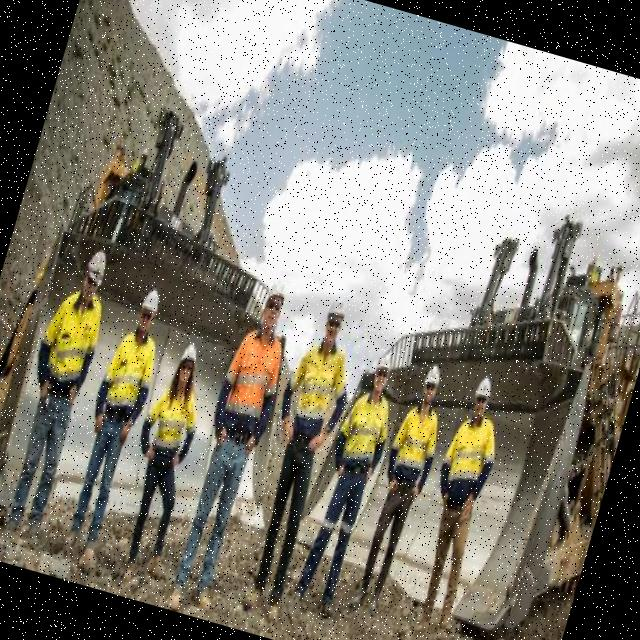Bulldozer: (0, 71, 371, 596), (279, 128, 640, 640)
